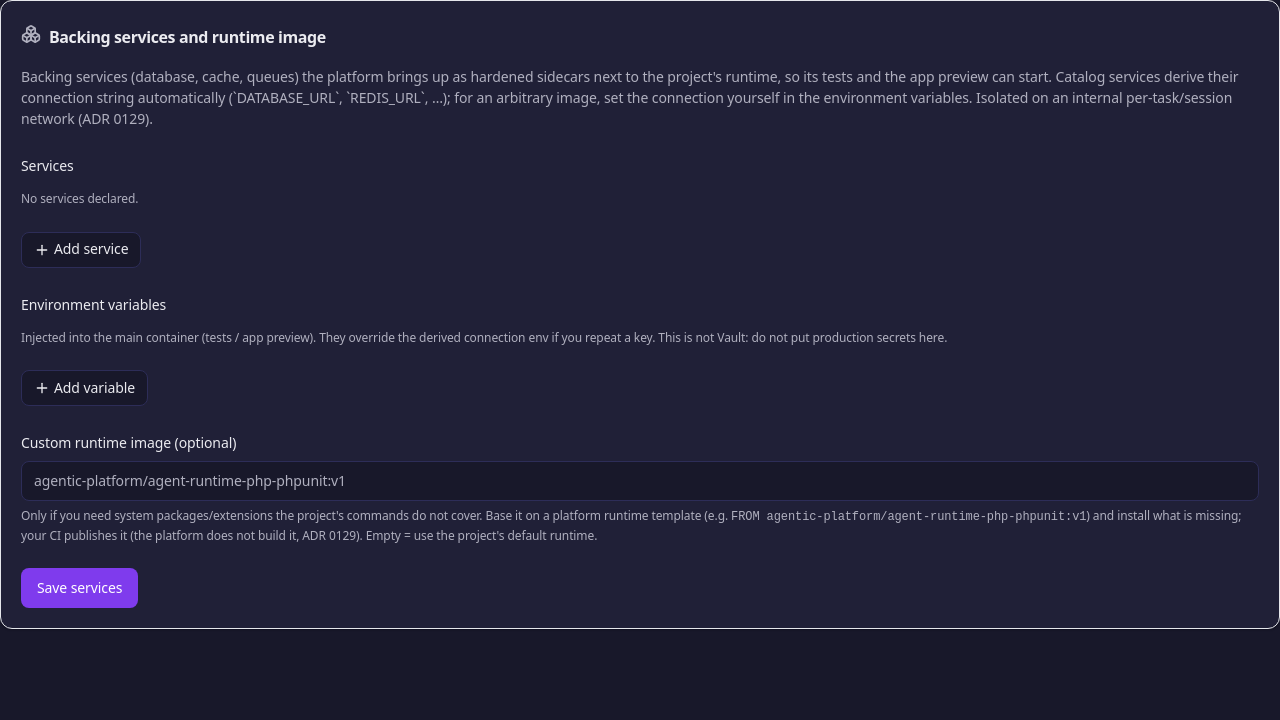
Scenario: runtime-services-section — el catálogo y las validaciones › los mensajes de validación viven en el módulo y se traducen (inglés)
Click the button with test id "add-service" at (81, 250), box [21,232,142,268]
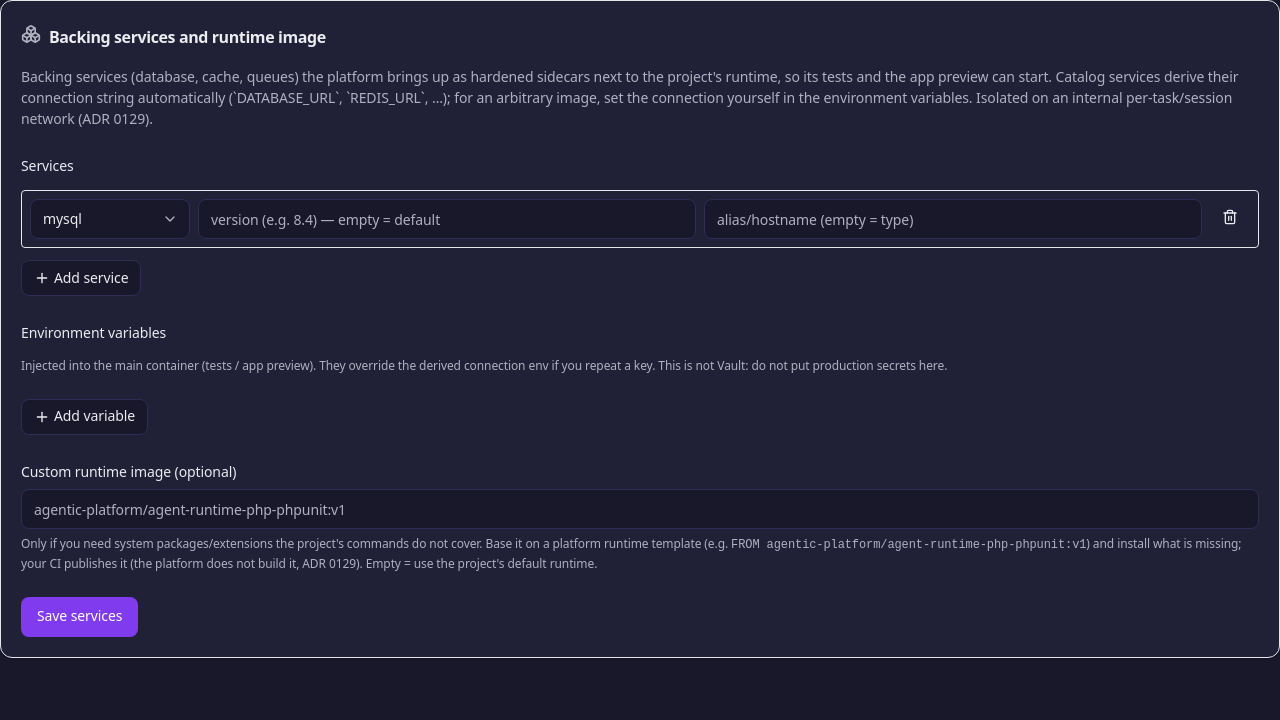
Type "MalAlias" into the field with test id "service-alias-0" at (953, 219), box [704,199,1202,239]
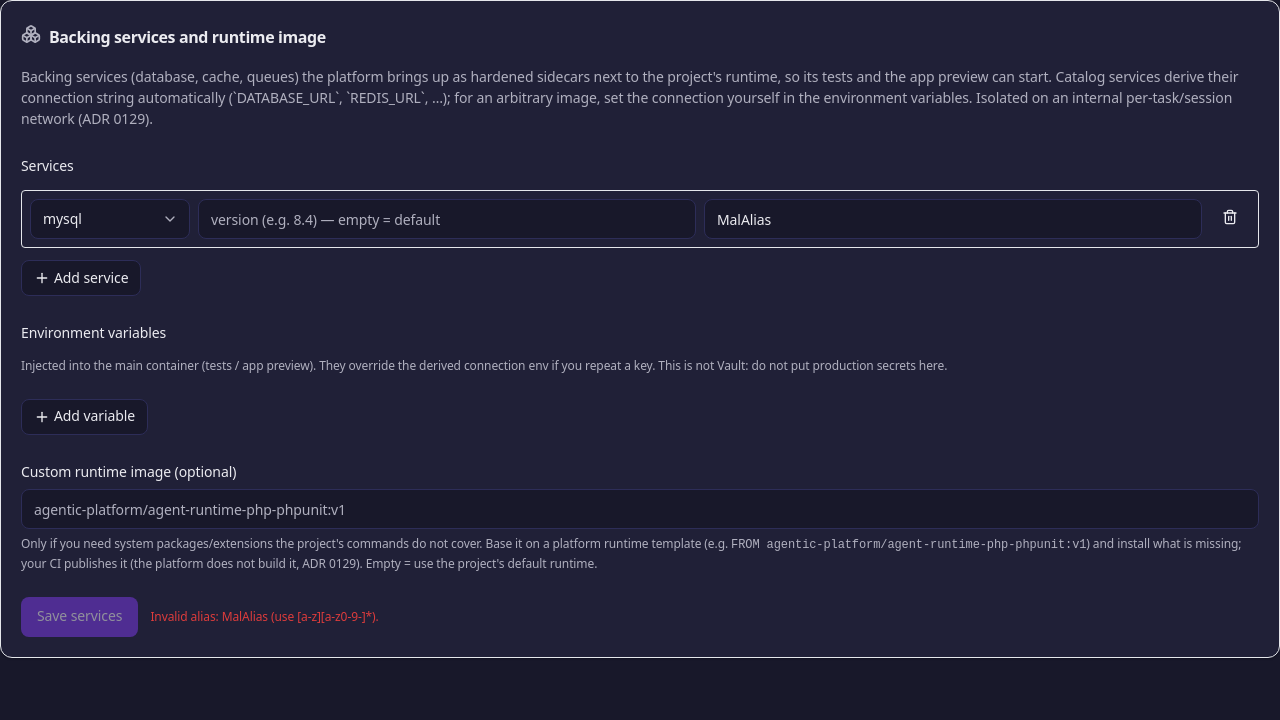
Expected: the text with test id "runtime-services-validation" shows "Invalid alias: MalAlias", [150,608,379,625]
Expected: the button with test id "runtime-services-save" is disabled, [21,597,138,637]
